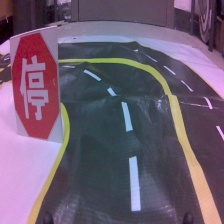stop: (11, 25, 65, 143)
